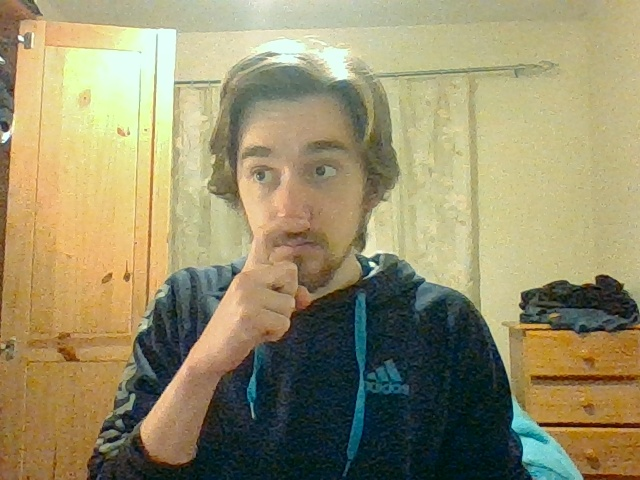sister: (241, 215, 312, 341)
